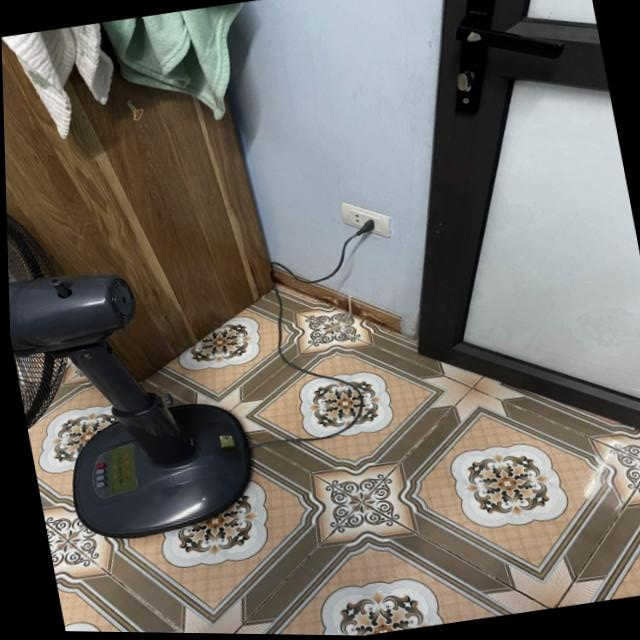outlet: (339, 195, 396, 245)
